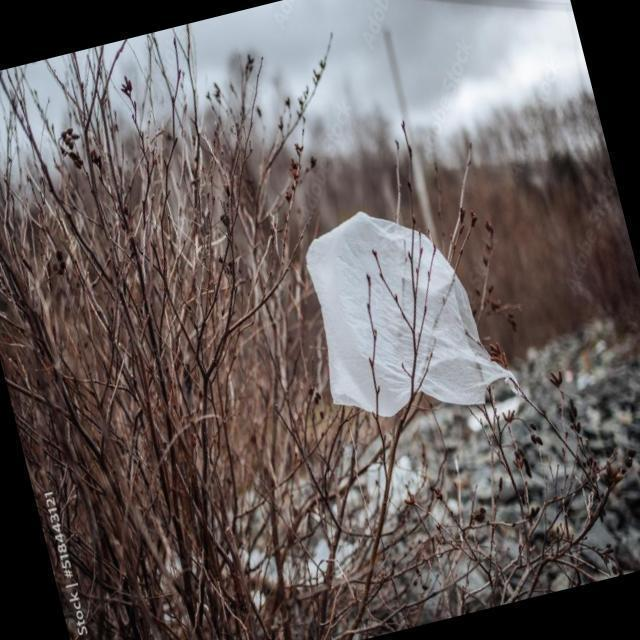KantongPlastik: (303, 209, 524, 419)
